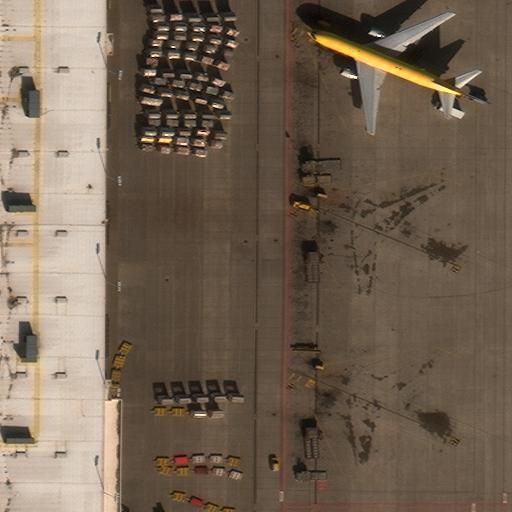Large Civil Transport: (304, 11, 461, 135)
